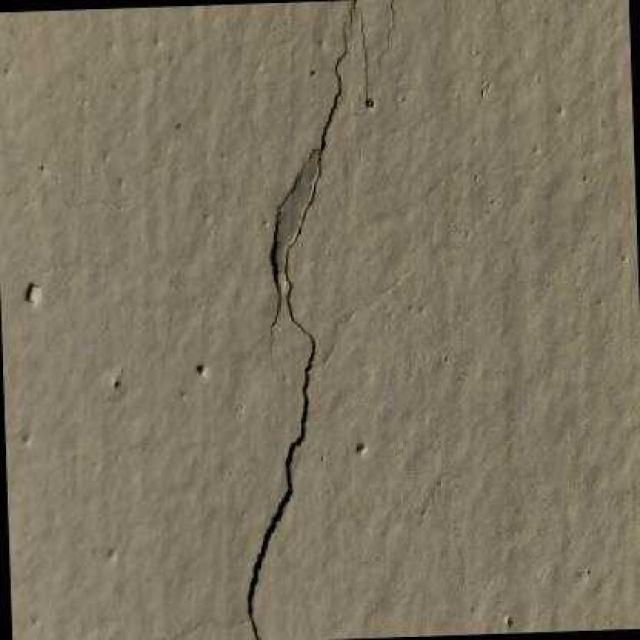D00: (245, 18, 347, 640), (267, 144, 317, 364), (375, 0, 394, 81), (358, 12, 366, 119)
